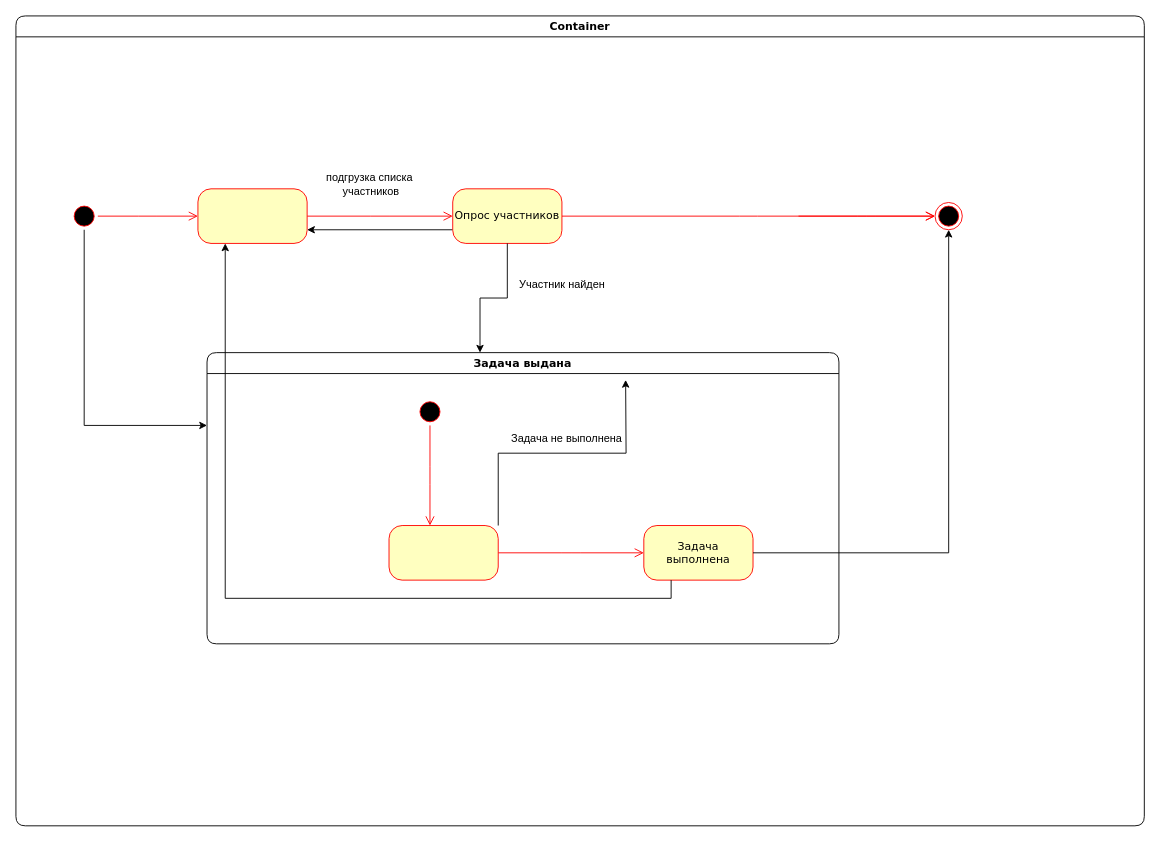
Image size: 1160x842. Some labels were removed from this diagram. Here are the shapes that lost their labels. From the top down, the centre of each, then its label:
At (252,215): "Ожидание задачи".
At (443,552): "Задача в процессе".
